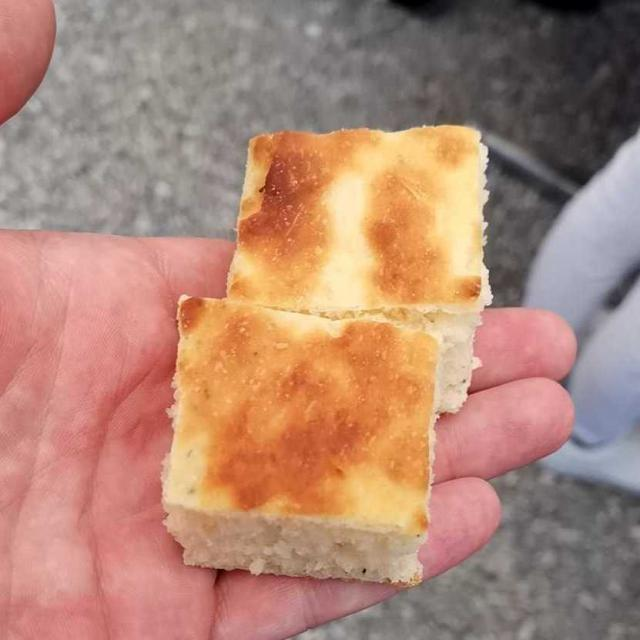bread: (153, 120, 498, 572)
